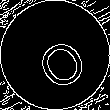O_NW: (23, 22, 87, 88)
